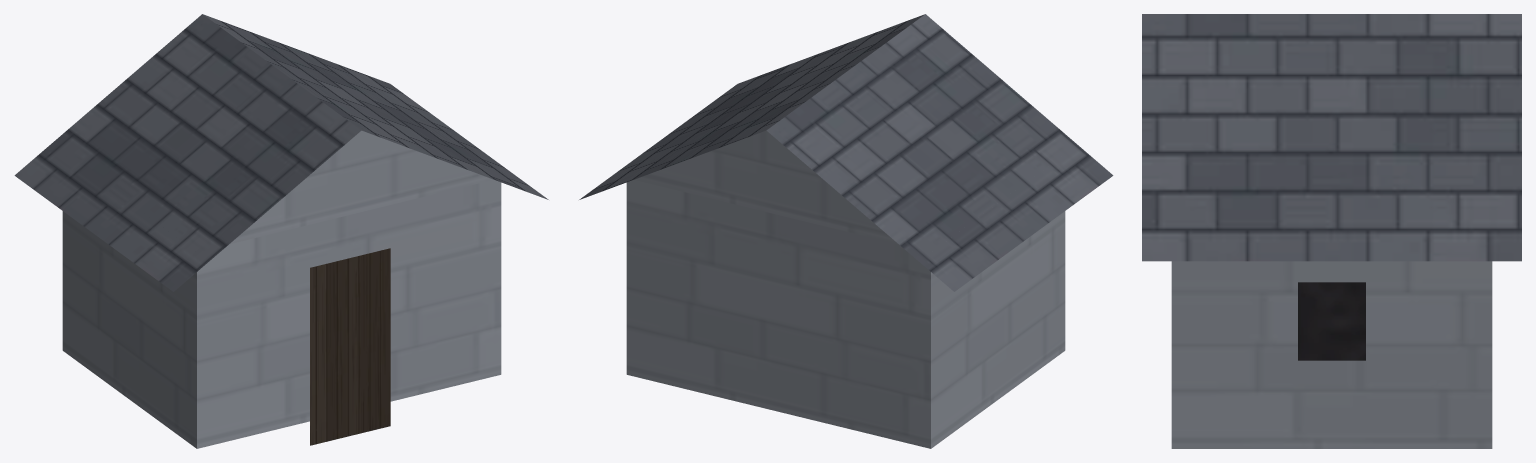
Rendered from ae_snow_stone_small_booth_lod2.glb.
3 views of the same model, side by side, from view 1: azimuth 30°, elevation 25°; view 2: azimuth 150°, elevation 25°; view 3: azimuth 270°, elevation 25° (orthographic). The views are drawn at different scales.
Visible parts, largest first — view 1: ae_snow_stone_small_booth_lod2; view 2: ae_snow_stone_small_booth_lod2; view 3: ae_snow_stone_small_booth_lod2.
Boxes of the visible parts, x1,y1,x2,y2 form: ae_snow_stone_small_booth_lod2: [14, 14, 548, 448]; ae_snow_stone_small_booth_lod2: [579, 14, 1113, 448]; ae_snow_stone_small_booth_lod2: [1142, 14, 1521, 448].
Size of the model in its own units: 4.2 by 3.35 by 3.08.
Materials: 1 (1 with a texture image).
